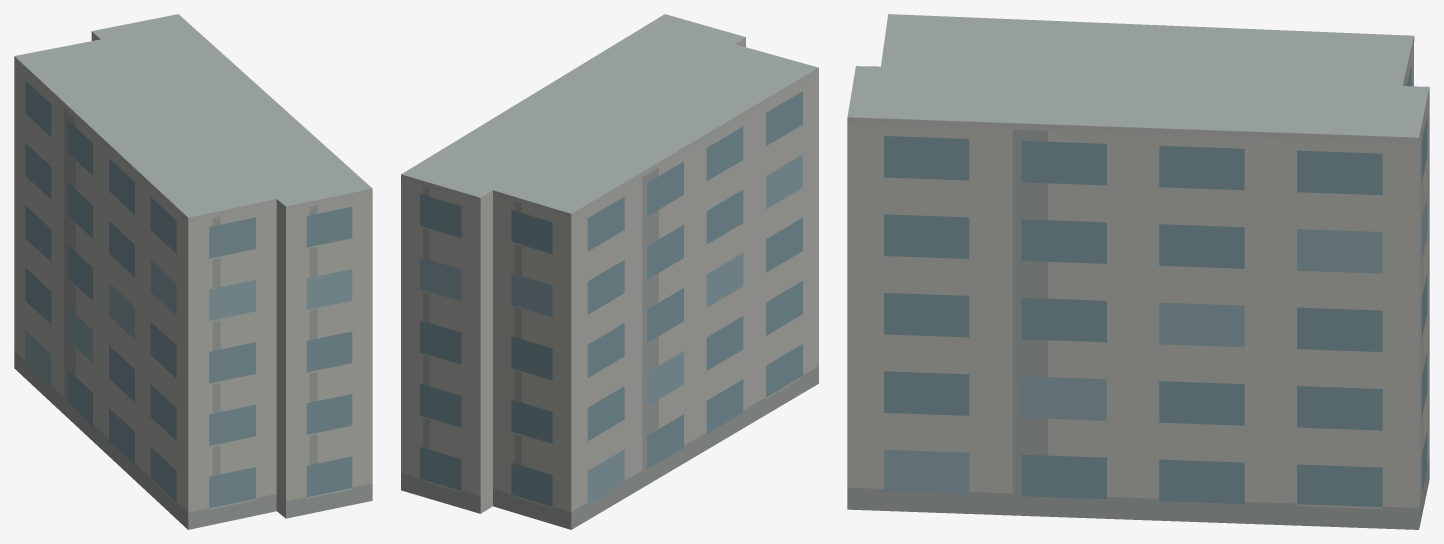
Rendered from survey-upis-32973335.glb.
3 renders of one model, left to right at view 1: azimuth 30°, elevation 25°; view 2: azimuth 150°, elevation 25°; view 3: azimuth 270°, elevation 25°, orthographic. The views are drawn at different scales.
Visible parts, largest first — view 1: survey-upis-32973335.tmp; view 2: survey-upis-32973335.tmp; view 3: survey-upis-32973335.tmp.
Part boxes in pixels (x1,y1,x2,y2): survey-upis-32973335.tmp: [14, 14, 372, 529]; survey-upis-32973335.tmp: [401, 14, 818, 529]; survey-upis-32973335.tmp: [847, 14, 1429, 529].
Size of the model in its own units: 9.91 by 14.65 by 19.71.
